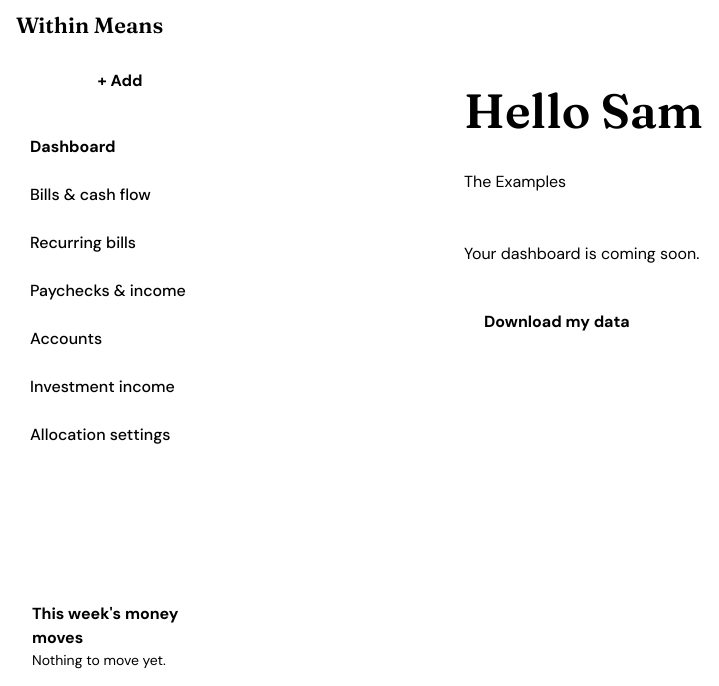
it: Hello › P1-14: the button is off while the export is being prepared
Step 1. Click the button "Download my data" → (557, 322), box x1=464 y1=298 x2=650 y2=346
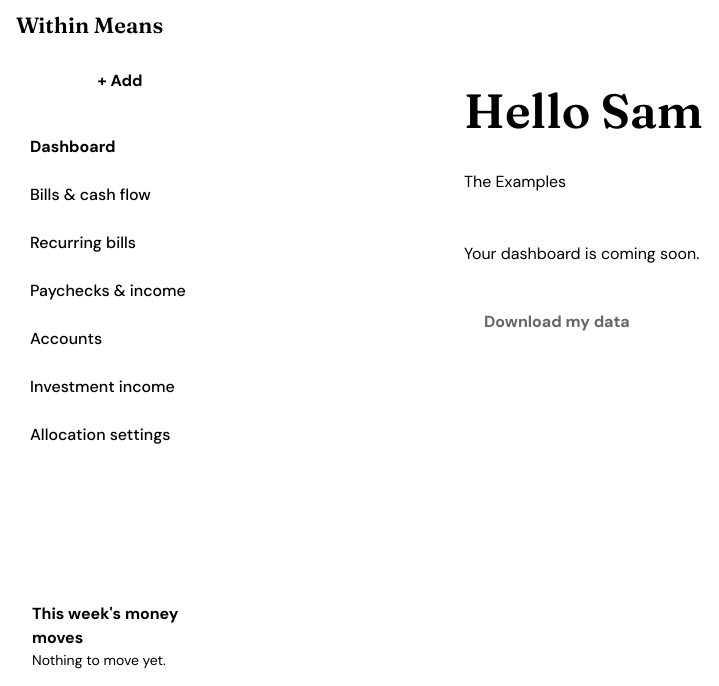
Expected: the button "Download my data" is disabled, x1=464 y1=298 x2=650 y2=346
